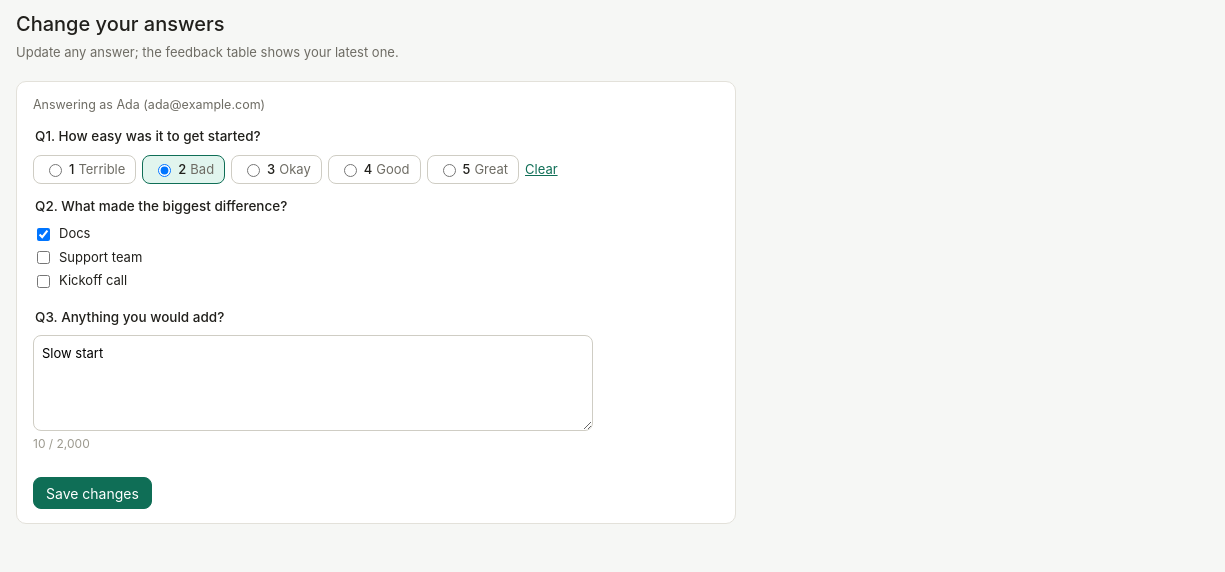
Scenario: EditResponsePage (Req 4) › explains that a cleared answer is kept, and does not send it
Step 1. Clear the text box named "Anything you would add?" → (313, 383), box x1=33 y1=335 x2=593 y2=431
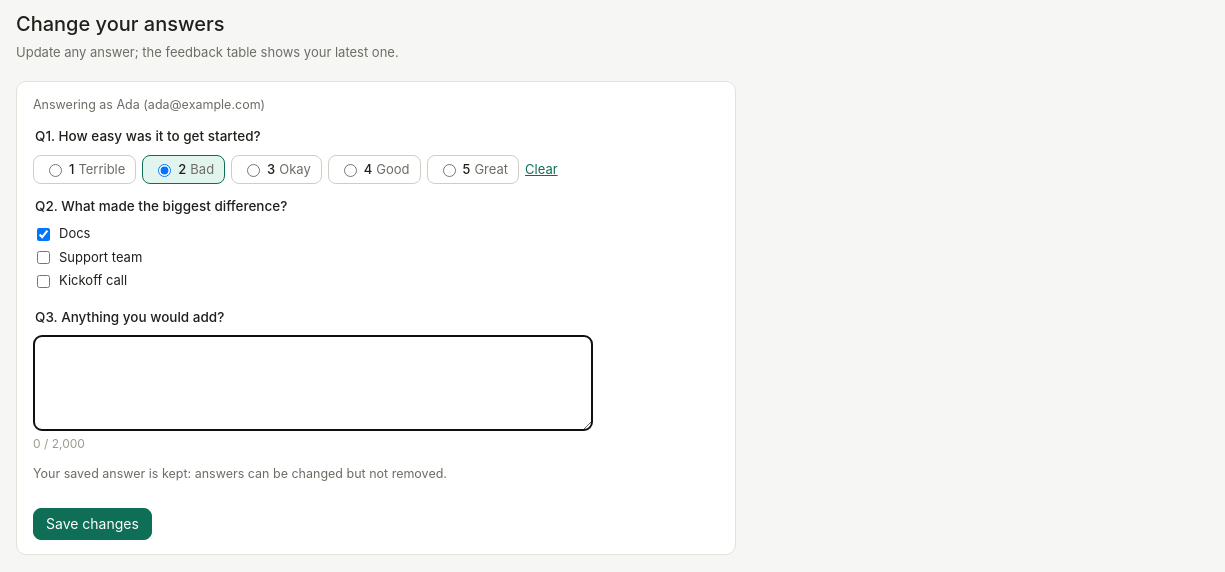
Now the text "Your saved answer is kept" is shown, box x1=33 y1=466 x2=447 y2=481
Step 2. Click the button "Save changes" → click(92, 524), box x1=33 y1=508 x2=152 y2=540
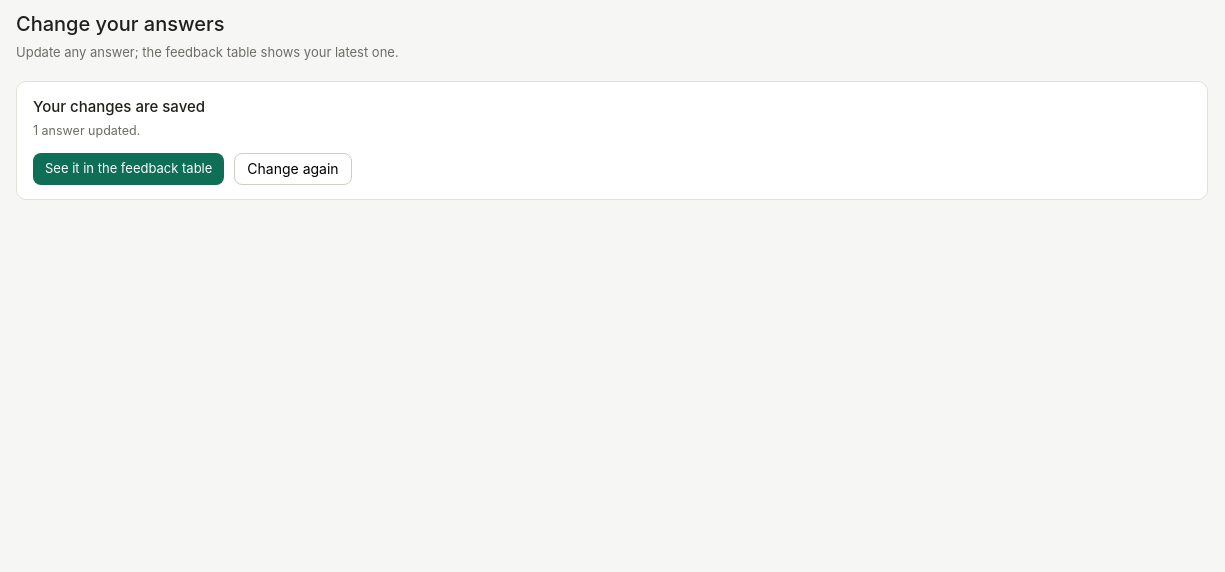
Now the message is shown, box x1=16 y1=80 x2=1208 y2=200
